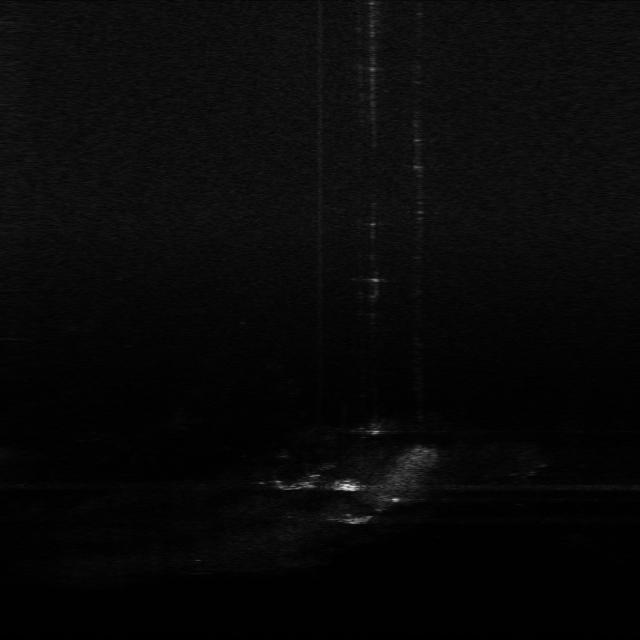rov: (333, 477, 361, 493)
